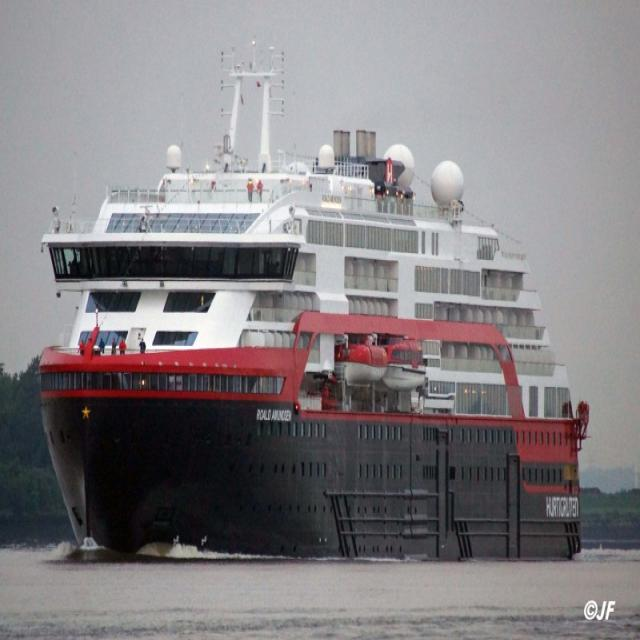cruises: (34, 54, 592, 569)
